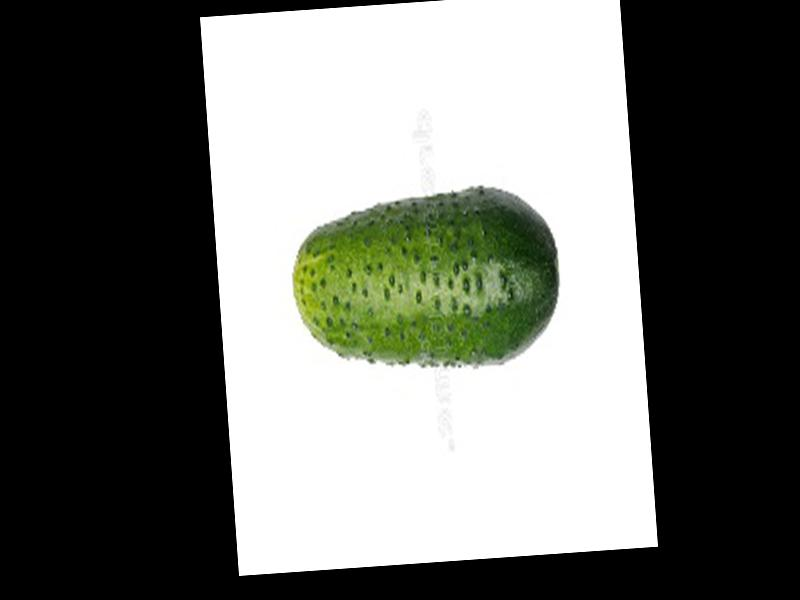Cucumber: (285, 180, 565, 381)
